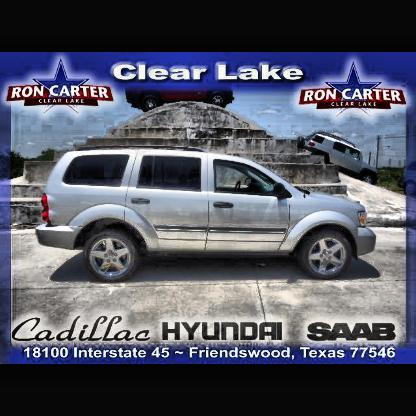Dodge Durango SUV 2007: (37, 146, 380, 282)
